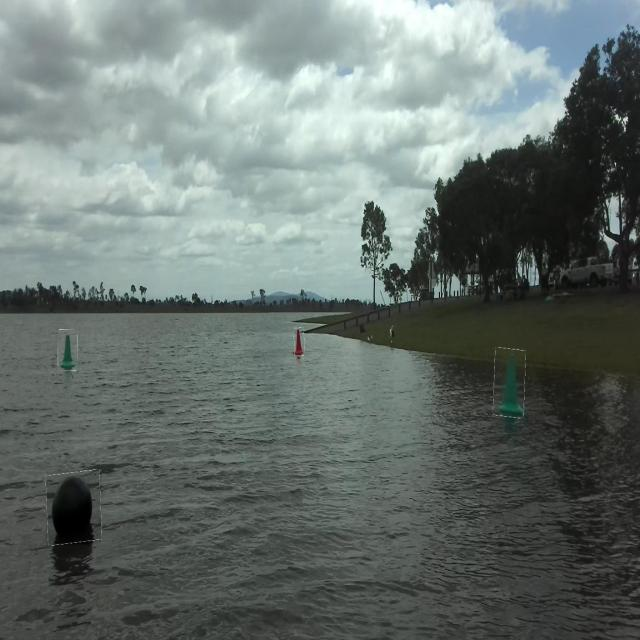Black_Buoy: (48, 463, 105, 552)
Green_Buoy: (494, 341, 525, 422), (58, 330, 78, 374)
Red_Buoy: (293, 332, 307, 368)
